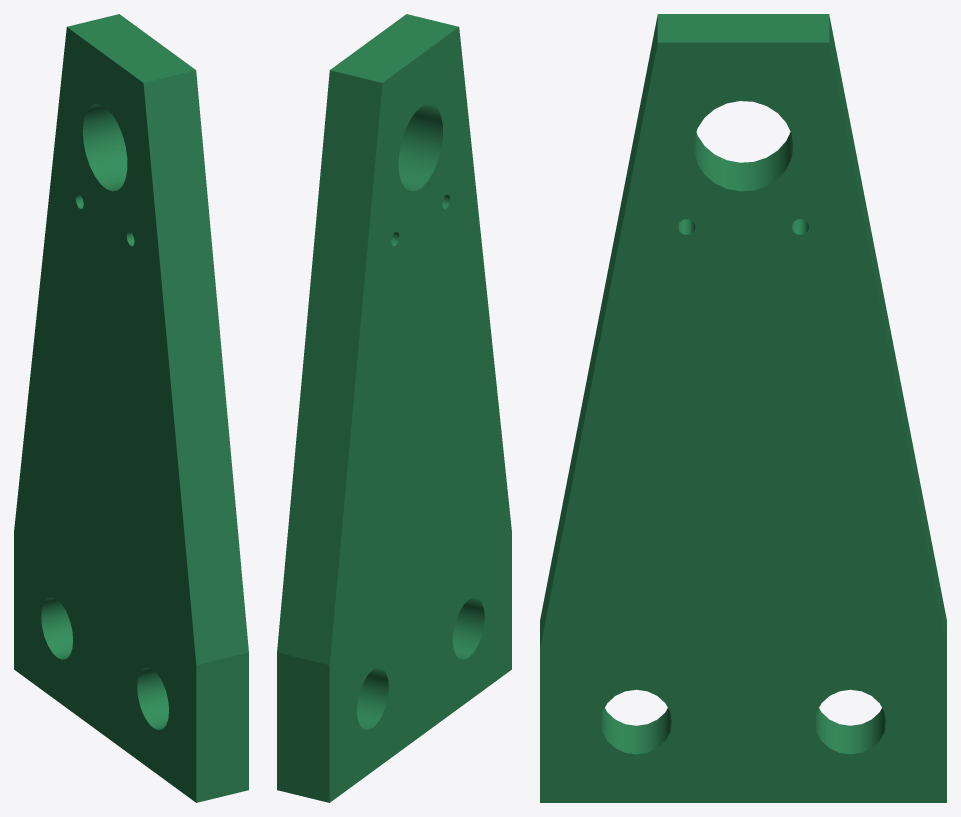
3 renders of one model, left to right at view 1: azimuth 30°, elevation 25°; view 2: azimuth 150°, elevation 25°; view 3: azimuth 270°, elevation 25°, orthographic. The views are drawn at different scales.
Visible parts, largest first — view 1: Solid1; view 2: Solid1; view 3: Solid1.
Part boxes in pixels (x1=…): Solid1: x1=14, y1=14, x2=248, y2=802; Solid1: x1=277, y1=14, x2=511, y2=802; Solid1: x1=540, y1=14, x2=946, y2=802.
Bounding box in the file's own units: 0.019 × 0.235 × 0.114.
